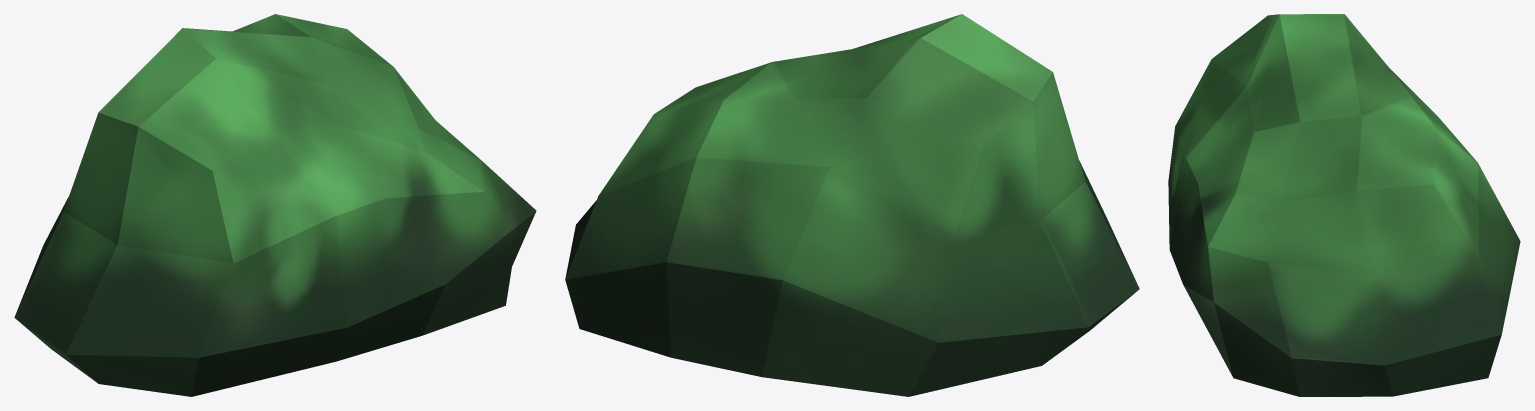
Rendered from arbusto1.fbx.
3 renders of one model, left to right at view 1: azimuth 30°, elevation 25°; view 2: azimuth 150°, elevation 25°; view 3: azimuth 270°, elevation 25°, orthographic. The views are drawn at different scales.
Visible parts, largest first — view 1: arbusto; view 2: arbusto; view 3: arbusto.
Boxes of the visible parts, bbox=[...] form: arbusto: bbox=[14, 14, 536, 396]; arbusto: bbox=[565, 14, 1139, 396]; arbusto: bbox=[1168, 14, 1520, 396].
Bounding box in the file's own units: 869 × 497 × 622.
